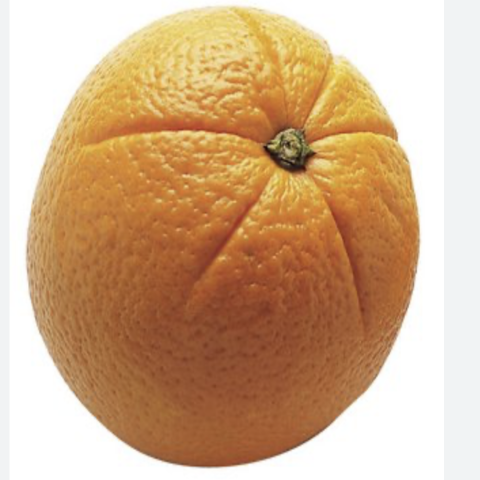orange: (12, 3, 455, 474)
